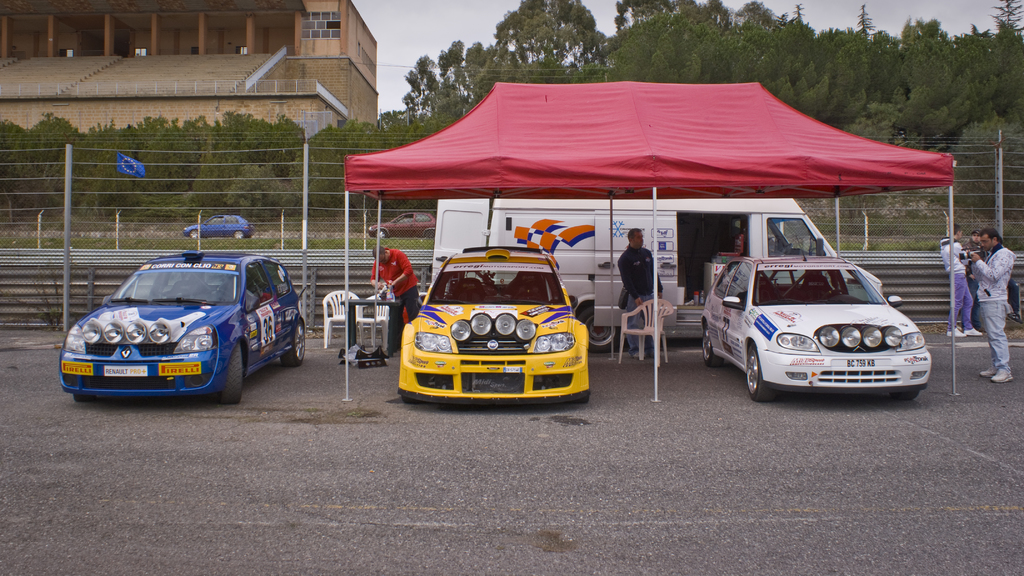car: (47, 236, 320, 426), (385, 220, 623, 416), (685, 233, 940, 405), (171, 200, 267, 247), (338, 197, 442, 240)
